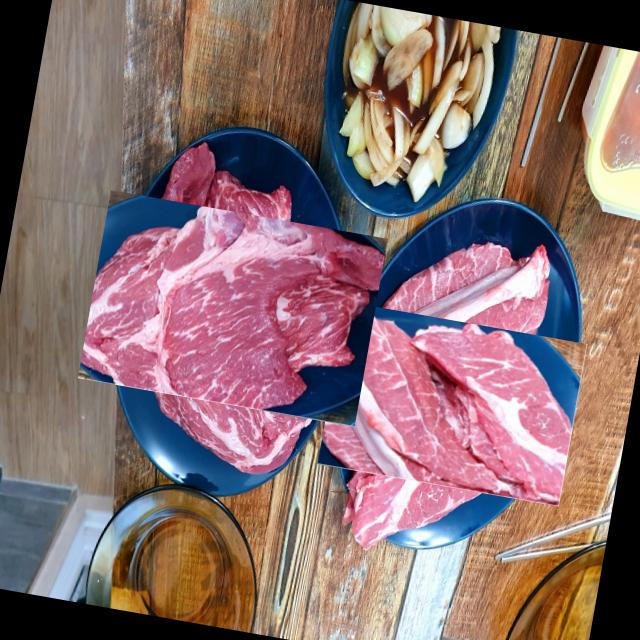beef: (96, 170, 370, 444), (334, 285, 570, 522)
